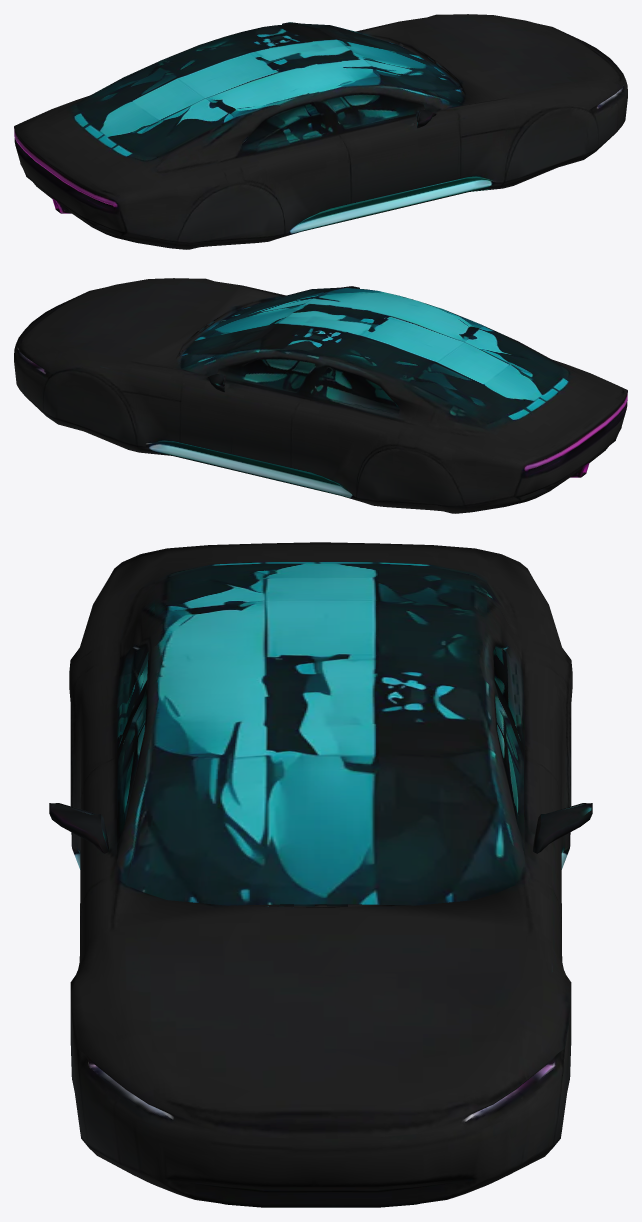
File: hovercar.glb
The picture shows the model from 3 angles, top to bottom: view 1: azimuth 30°, elevation 25°; view 2: azimuth 150°, elevation 25°; view 3: azimuth 270°, elevation 25°; orthographic projection. The views are drawn at different scales.
Parts seen in each view (by area): view 1: material; view 2: material; view 3: material.
Part boxes in pixels (<box>): material: <box>14,14,627,249</box>; material: <box>14,278,627,513</box>; material: <box>49,542,592,1207</box>.
Size of the model in its own units: 1.9 by 0.4159 by 0.8025.
Materials: 1 (1 with a texture image).
